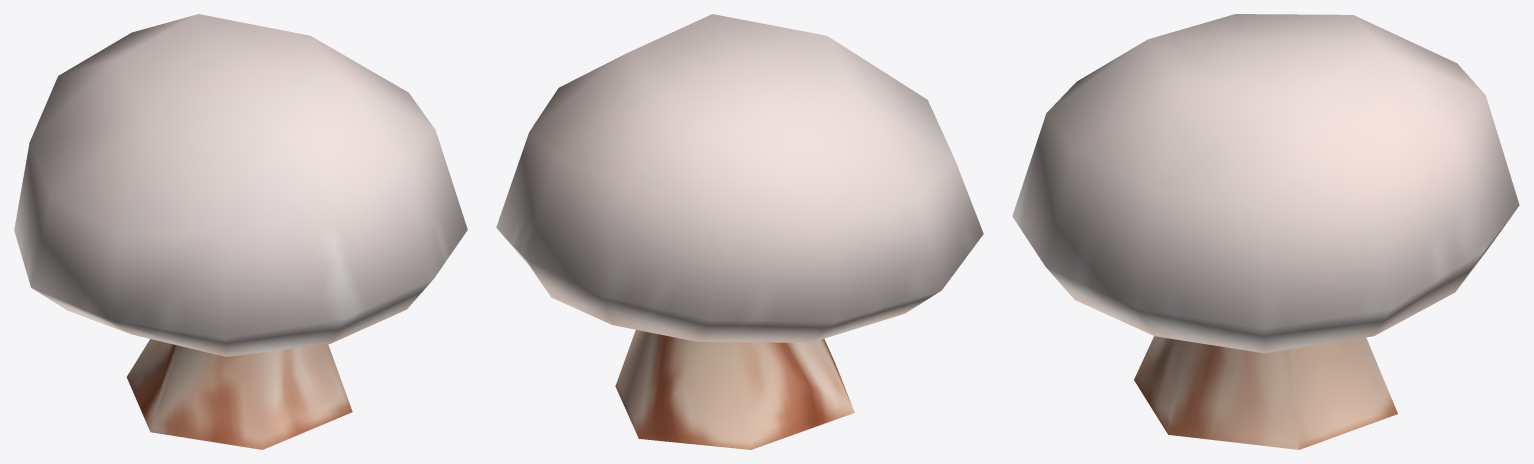
File: SM_PROP_food_mushroom_01.FBX
The picture shows the model from 3 angles, left to right: view 1: azimuth 30°, elevation 25°; view 2: azimuth 150°, elevation 25°; view 3: azimuth 270°, elevation 25°; orthographic projection. The views are drawn at different scales.
Parts seen in each view (by area): view 1: SM_PROP_food_mushroom_01; view 2: SM_PROP_food_mushroom_01; view 3: SM_PROP_food_mushroom_01.
Part boxes in pixels (box(x1,y1,x2,y2)): SM_PROP_food_mushroom_01: box(14, 14, 467, 449); SM_PROP_food_mushroom_01: box(496, 14, 983, 449); SM_PROP_food_mushroom_01: box(1012, 14, 1519, 449).
Size of the model in its own units: 12.3 by 12.66 by 9.78.
